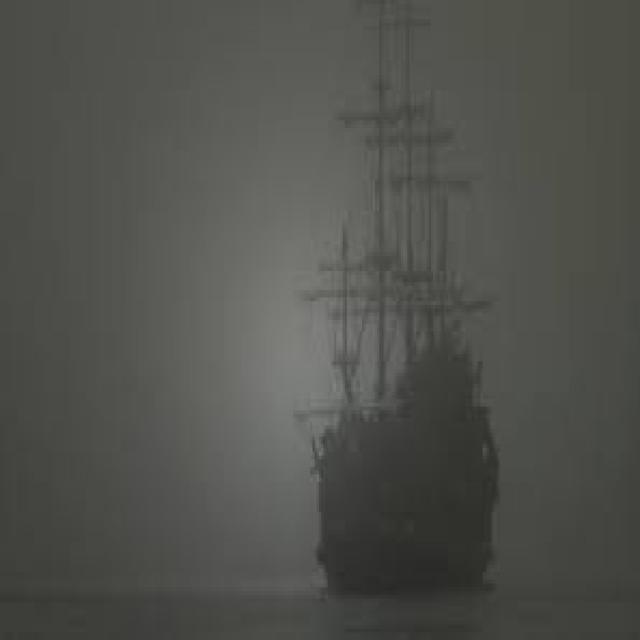fishing boat: (296, 7, 516, 612)
